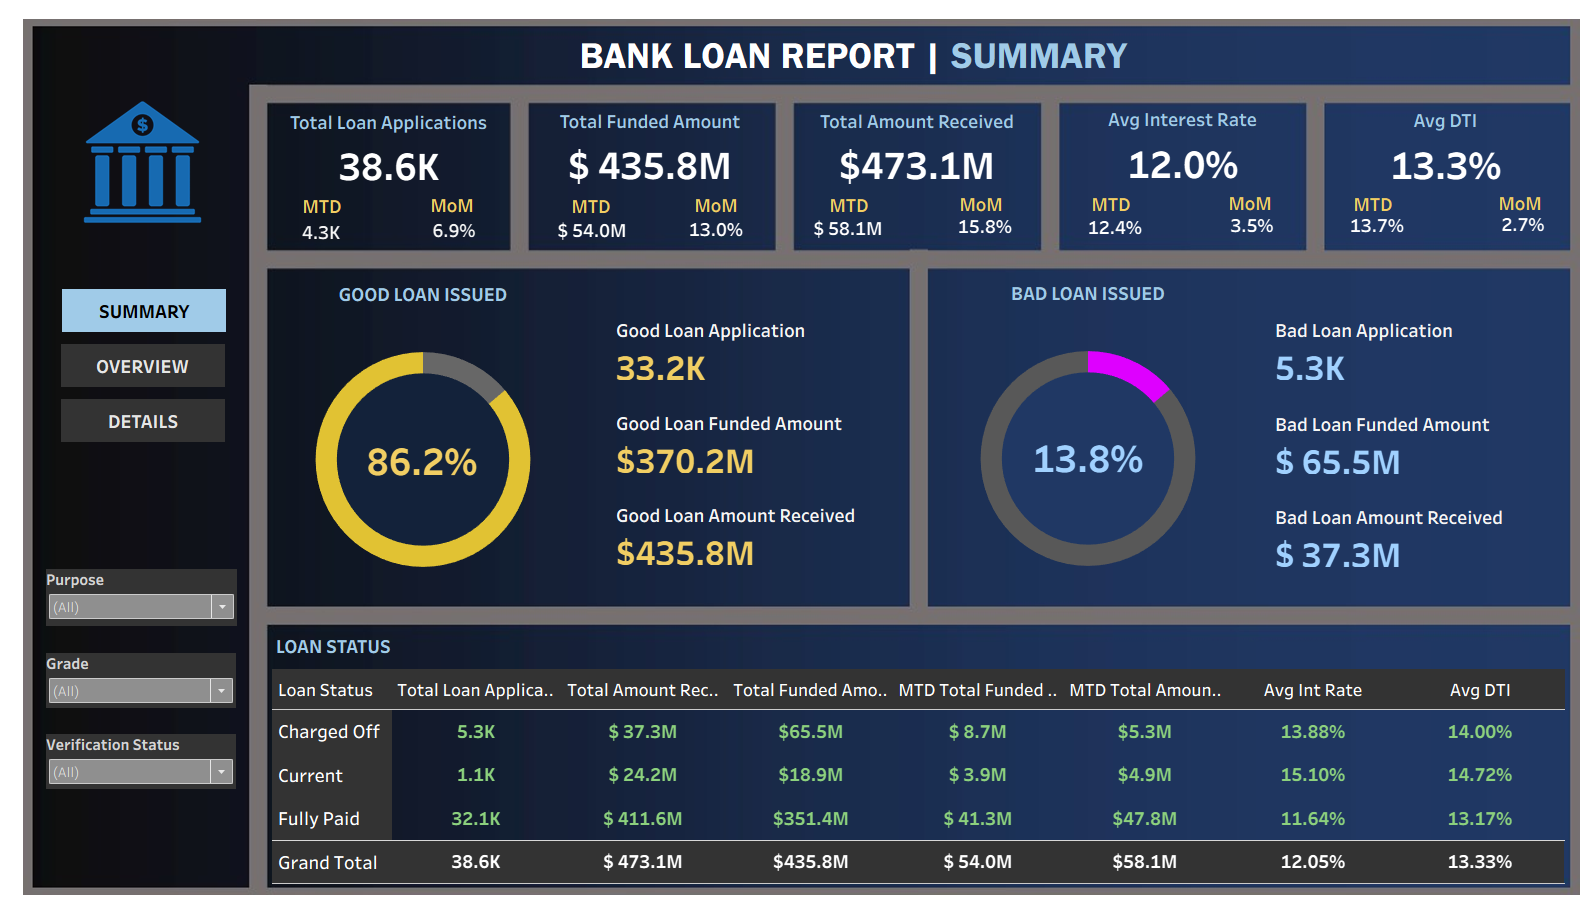

This screenshot's page, from the dashboard's own definition file:
{"tool":"tableau","page":{"name":"SUMMARY","canvas":[1600,900],"ordinal":2},"visuals":[{"type":"image","param":"C:/Users/Ashutosh patil/Downloads/Tableau Background 1.jpg","box":[8,8,1584,884]},{"type":"text","box":[571,22,561,52]},{"type":"image","param":"C:/Users/Ashutosh patil/Downloads/Bank-Icon-PNG-Isolated-HD.png","box":[55,75,170,171]},{"type":"worksheet","title":"Avg Interest Rate","mark":"Automatic","box":[1058,95,245,81]},{"type":"worksheet","title":"Avg DTI","mark":"Automatic","box":[1321,96,245,82]},{"type":"worksheet","title":"Total Funded Amount","mark":"Automatic","box":[525,97,246,80]},{"type":"worksheet","title":"Total Amount Received","mark":"Automatic","box":[792,97,246,80]},{"type":"worksheet","title":"Total Loan Applications","mark":"Automatic","box":[267,98,239,79]},{"type":"text","box":[1223,187,50,18]},{"type":"text","box":[1493,187,50,18]},{"type":"text","box":[954,188,50,18]},{"type":"text","box":[1084,188,50,18]},{"type":"text","box":[1346,188,50,18]},{"type":"text","box":[425,189,50,18]},{"type":"text","box":[689,189,50,18]},{"type":"text","box":[822,189,50,18]},{"type":"text","box":[295,190,50,18]},{"type":"text","box":[564,190,50,18]},{"type":"worksheet","title":"MoM Avg DTI","mark":"Automatic","box":[1493,197,56,39]},{"type":"worksheet","title":"MTD Total Amount Received","mark":"Automatic","box":[805,199,81,43]},{"type":"worksheet","title":"MoM Total Amount Received","mark":"Automatic","box":[947,200,72,38]},{"type":"worksheet","title":"MTD Avg DTI","mark":"Automatic","box":[1341,200,68,35]},{"type":"worksheet","title":"MoM Avg Interest Rate","mark":"Automatic","box":[1215,201,69,34]},{"type":"worksheet","title":"MTD Total Funded Amount","mark":"Automatic","box":[545,202,90,42]},{"type":"worksheet","title":"MoM Total Fubded Amount","mark":"Automatic","box":[674,202,79,40]},{"type":"worksheet","title":"MTD Avg Interest Rate","mark":"Automatic","box":[1073,202,79,36]},{"type":"worksheet","title":"MoM Total Loan Applications","mark":"Automatic","box":[422,205,60,36]},{"type":"worksheet","title":"MTD Total Loan Applications","mark":"Automatic","box":[293,206,52,38]},{"type":"worksheet","title":"Bad Loan Issued","mark":"Pie","rows":["Calculation_0288399461449750","Calculation_0288399461449750"],"box":[936,269,300,325]},{"type":"worksheet","title":"Good Loan Issued","mark":"Pie","rows":["Calculation_0288399461449750","Calculation_0288399461449750"],"box":[271,270,300,325]},{"type":"dashboard-object","box":[60,282,164,43]},{"type":"worksheet","title":"Good Loan Application","mark":"Automatic","box":[606,302,300,75]},{"type":"worksheet","title":"Bad Loan Application","mark":"Automatic","box":[1265,302,300,75]},{"type":"dashboard-object","box":[59,337,164,43]},{"type":"dashboard-object","box":[59,392,164,43]},{"type":"worksheet","title":"Good Loan Funded Amount","mark":"Automatic","box":[606,395,300,75]},{"type":"worksheet","title":"Bad Loan Funded Amount","mark":"Automatic","box":[1265,396,300,75]},{"type":"worksheet","title":"Good Loan Application%","mark":"Automatic","box":[323,407,194,92]},{"type":"worksheet","title":"Bad Loan %","mark":"Automatic","box":[1012,424,148,53]},{"type":"worksheet","title":"Good Loan Amount Received","mark":"Automatic","box":[606,487,300,75]},{"type":"worksheet","title":"Bad Loan Amount Received","mark":"Automatic","box":[1265,489,300,75]},{"type":"filter","title":"Good Loan Issued","param":"[federated.1rtcsyt0h957pv0znsryh1tsff6r].[none:purpose:nk]","box":[44,562,191,57]},{"type":"worksheet","title":"LOAN STATUS","mark":"Automatic","rows":["loan_status"],"box":[270,622,1293,255]},{"type":"filter","title":"Good Loan Issued","param":"[federated.1rtcsyt0h957pv0znsryh1tsff6r].[none:grade:nk]","box":[44,646,190,55]},{"type":"filter","title":"Good Loan Issued","param":"[federated.1rtcsyt0h957pv0znsryh1tsff6r].[none:verification_status:nk]","box":[44,727,190,55]}]}

Visuals, with their boxes in screenshot pixels (x1, y1, x2, y2), scaled from the page's 1600x900 canvas onto the 1592x913 screenshot:
image: select_region(8, 8, 1584, 905)
text: select_region(568, 22, 1126, 75)
image: select_region(55, 76, 224, 250)
"Avg Interest Rate" worksheet: select_region(1053, 96, 1296, 179)
"Avg DTI" worksheet: select_region(1314, 97, 1558, 181)
"Total Funded Amount" worksheet: select_region(522, 98, 767, 180)
"Total Amount Received" worksheet: select_region(788, 98, 1033, 180)
"Total Loan Applications" worksheet: select_region(266, 99, 503, 180)
text: select_region(1217, 190, 1267, 208)
text: select_region(1486, 190, 1535, 208)
text: select_region(949, 191, 999, 209)
text: select_region(1079, 191, 1128, 209)
text: select_region(1339, 191, 1389, 209)
text: select_region(423, 192, 473, 210)
text: select_region(686, 192, 735, 210)
text: select_region(818, 192, 868, 210)
text: select_region(294, 193, 343, 211)
text: select_region(561, 193, 611, 211)
"MoM Avg DTI" worksheet: select_region(1486, 200, 1541, 239)
"MTD Total Amount Received" worksheet: select_region(801, 202, 882, 245)
"MoM Total Amount Received" worksheet: select_region(942, 203, 1014, 241)
"MTD Avg DTI" worksheet: select_region(1334, 203, 1402, 238)
"MoM Avg Interest Rate" worksheet: select_region(1209, 204, 1278, 238)
"MTD Total Funded Amount" worksheet: select_region(542, 205, 632, 248)
"MoM Total Fubded Amount" worksheet: select_region(671, 205, 749, 245)
"MTD Avg Interest Rate" worksheet: select_region(1068, 205, 1146, 241)
"MoM Total Loan Applications" worksheet: select_region(420, 208, 480, 244)
"MTD Total Loan Applications" worksheet: select_region(292, 209, 343, 248)
"Bad Loan Issued" worksheet (Pie marks): select_region(931, 273, 1230, 603)
"Good Loan Issued" worksheet (Pie marks): select_region(270, 274, 568, 604)
dashboard-object: select_region(60, 286, 223, 330)
"Good Loan Application" worksheet: select_region(603, 306, 901, 382)
"Bad Loan Application" worksheet: select_region(1259, 306, 1557, 382)
dashboard-object: select_region(59, 342, 222, 385)
dashboard-object: select_region(59, 398, 222, 441)
"Good Loan Funded Amount" worksheet: select_region(603, 401, 901, 477)
"Bad Loan Funded Amount" worksheet: select_region(1259, 402, 1557, 478)
"Good Loan Application%" worksheet: select_region(321, 413, 514, 506)
"Bad Loan %" worksheet: select_region(1007, 430, 1154, 484)
"Good Loan Amount Received" worksheet: select_region(603, 494, 901, 570)
"Bad Loan Amount Received" worksheet: select_region(1259, 496, 1557, 572)
"Good Loan Issued" filter: select_region(44, 570, 234, 628)
"LOAN STATUS" worksheet: select_region(269, 631, 1555, 890)
"Good Loan Issued" filter: select_region(44, 655, 233, 711)
"Good Loan Issued" filter: select_region(44, 738, 233, 793)
